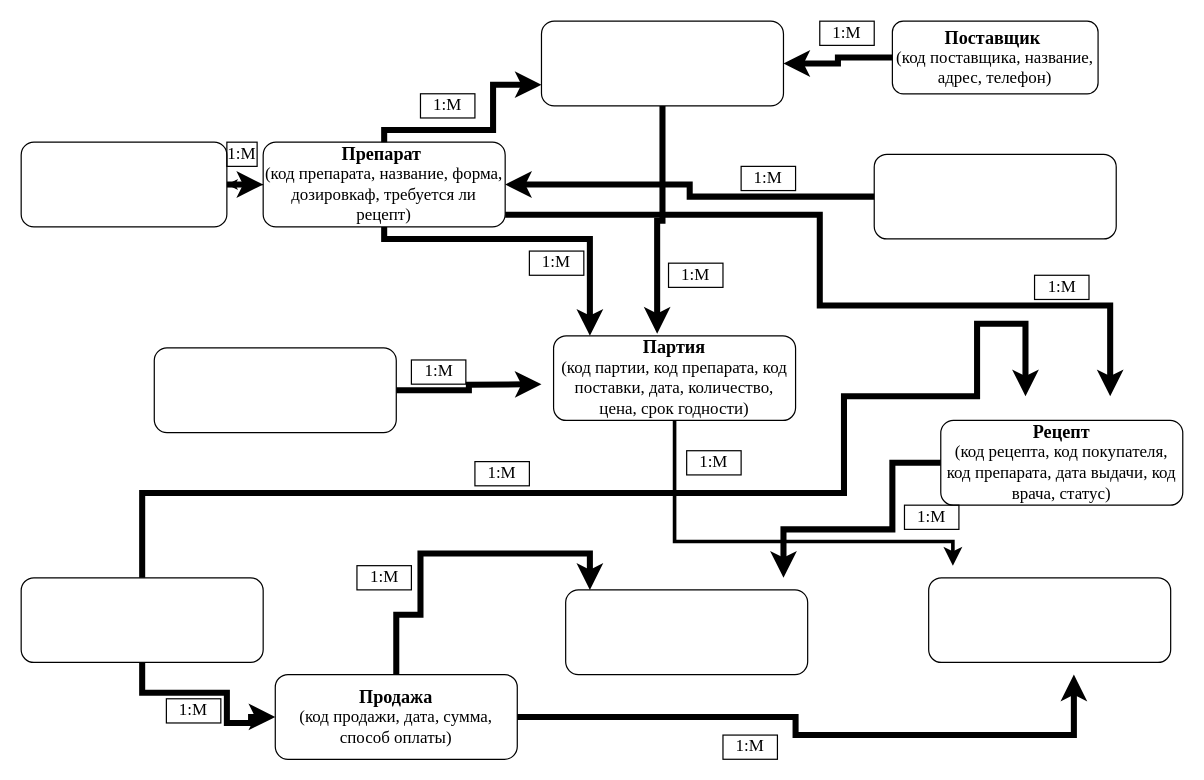
Image size: 1204x780. Some labels were removed from this diagram. Here are the shapes that lost their labels. From the top down, the box of each, then its label:
(540, 20, 783, 106): Поставка (код поставщика, код поставки, код препарта, дата, колиество, цена)
(20, 141, 227, 227): Категория препаратов (код категории, название, описание)
(873, 153, 1116, 239): Производитель (код производителя, название, страна, лицензия)
(153, 347, 396, 433): Место хранения (код места, зона, условия хранения)
(20, 577, 263, 662): Покупатель (код покупателя, ФИО, дата рождения, телефон)
(564, 589, 808, 675): Применение рецепта (код применениия, код рецепта, код продажи)
(927, 577, 1171, 662): Позиция продажи (код позиции, код продажи, код партии, количество, цена)
